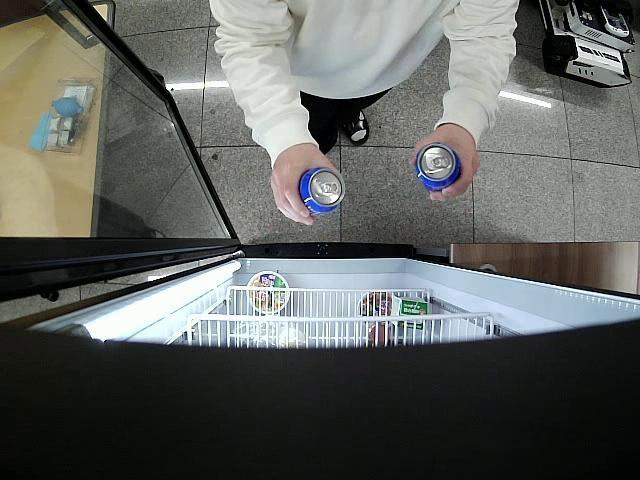13_pocariSweat: (415, 140, 464, 193), (297, 165, 345, 216)
